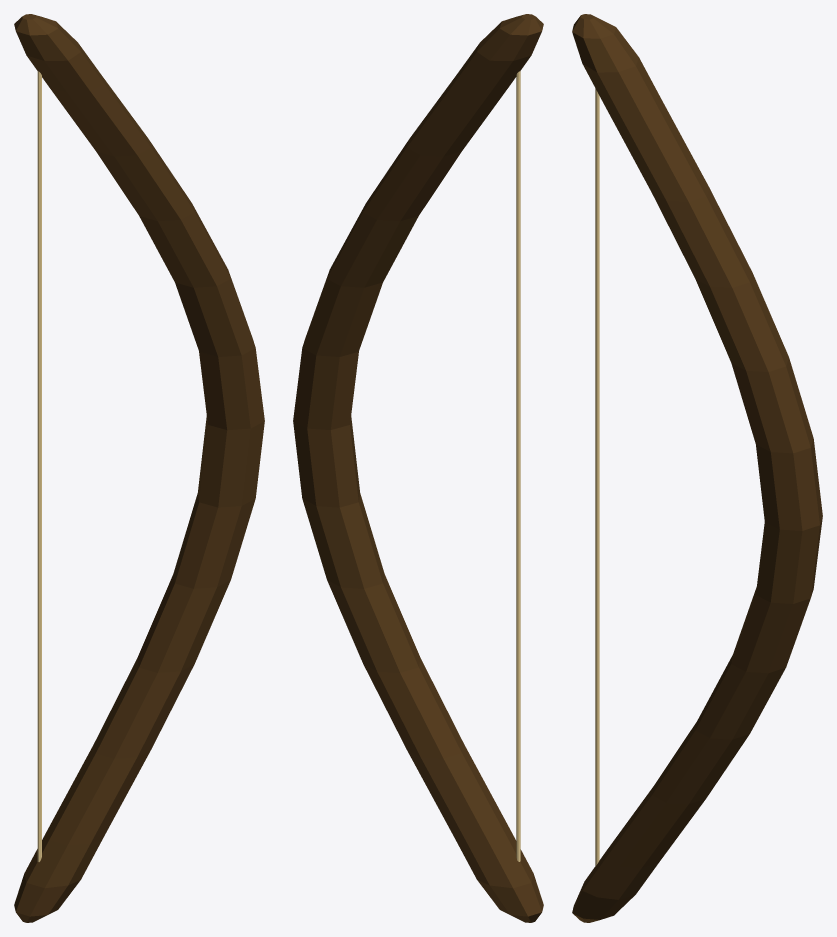
File: Bow.glb
3 renders of one model, left to right at view 1: azimuth 30°, elevation 25°; view 2: azimuth 150°, elevation 25°; view 3: azimuth 330°, elevation 25°, orthographic.
Visible parts, largest first — view 1: bow; view 2: bow; view 3: bow.
Boxes of the visible parts, bbox=[...] form: bow: bbox=[14, 14, 264, 922]; bow: bbox=[293, 14, 543, 922]; bow: bbox=[572, 14, 822, 922].
Bounding box in the file's own units: 0.3378 × 1.18 × 0.0687.
